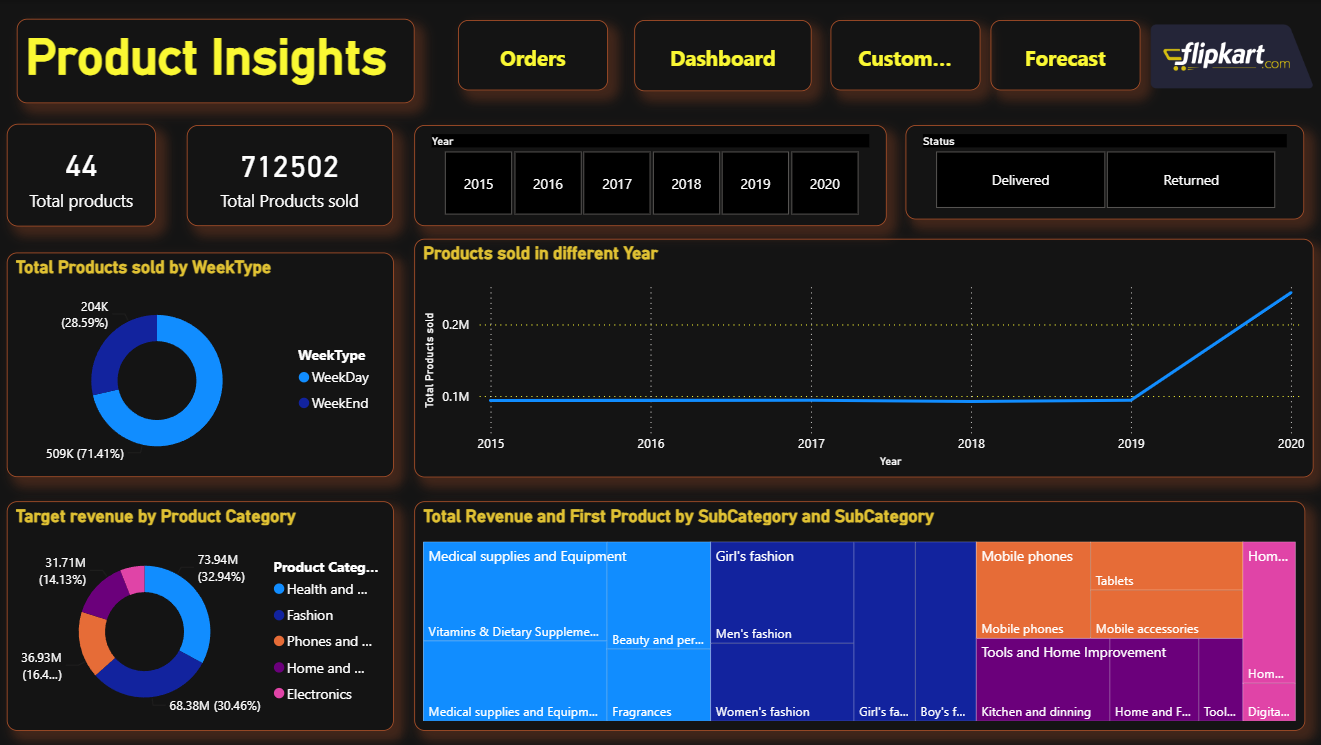

What the dashboard file says about the page in this screenshot:
{"tool":"powerbi","page":{"name":"Products","canvas":[1280,720],"ordinal":3},"visuals":[{"type":"textbox","box":[18.6,18.6,383.6,81.6],"z":0},{"type":"card","fields":{"Values":["All Measure.Total products"]},"box":[8.3,119.5,144.4,99.6],"z":1000},{"type":"card","fields":{"Values":["All Measure.Total Products sold"]},"box":[182.5,121.1,199.1,97.9],"z":2000},{"type":"slicer","fields":{"Values":["Calendar.Year"]},"box":[401.6,121.1,456.4,97.9],"z":3000},{"type":"slicer","fields":{"Values":["Data.Status"]},"box":[876.2,121.1,385,91.3],"z":4000},{"type":"donutChart","fields":{"Category":["Calendar.WeekType"],"Y":["All Measure.Total Products sold"]},"box":[8.7,243.1,373.4,217.1],"z":5000},{"type":"donutChart","fields":{"Category":["Product Category.Product Category","Product Category.SubCategory"],"Y":["All Measure.Target revenue"]},"box":[8.7,484.1,373.4,221.4],"z":6000},{"type":"lineChart","title":"Products sold in different Year","fields":{"Category":["Calendar.Date.Variation.Date Hierarchy.Year","Calendar.Date.Variation.Date Hierarchy.Quarter","Calendar.Date.Variation.Date Hierarchy.Month","Calendar.Date.Variation.Date Hierarchy.Day"],"Y":["All Measure.Total Products sold"]},"box":[401.6,230.1,868.3,230.1],"z":7000},{"type":"treemap","fields":{"Values":["All Measure.Total Revenue"],"Group":["Product Category.SubCategory"],"Details":["Data.SubCategory"]},"box":[401.6,484.1,859.6,221.4],"z":8000},{"type":"actionButton","box":[444,19.3,144.6,68.3],"z":9000},{"type":"actionButton","box":[614.1,19.3,171.3,68.8],"z":10000},{"type":"actionButton","box":[803.5,19.3,144.6,68.3],"z":11000},{"type":"actionButton","box":[957.9,19.3,144.6,68.3],"z":12000},{"type":"image","box":[1111.1,6,158.9,96.7],"z":13000}]}

Visuals, with their boxes in screenshot pixels (x1, y1, x2, y2), scaled from the page's 1280x720 canvas onto the 1321x745 screenshot:
textbox: detection(19, 19, 415, 104)
card - All Measure.Total products: detection(9, 124, 158, 227)
card - All Measure.Total Products sold: detection(188, 125, 394, 227)
slicer - Calendar.Year: detection(414, 125, 885, 227)
slicer - Data.Status: detection(904, 125, 1302, 220)
donutChart - Calendar.WeekType x All Measure.Total Products sold: detection(9, 252, 394, 476)
donutChart - Product Category.Product Category x Product Category.SubCategory: detection(9, 501, 394, 730)
"Products sold in different Year" lineChart: detection(414, 238, 1311, 476)
treemap - All Measure.Total Revenue x Product Category.SubCategory: detection(414, 501, 1302, 730)
actionButton: detection(458, 20, 607, 91)
actionButton: detection(634, 20, 811, 91)
actionButton: detection(829, 20, 978, 91)
actionButton: detection(989, 20, 1138, 91)
image: detection(1147, 6, 1311, 106)
